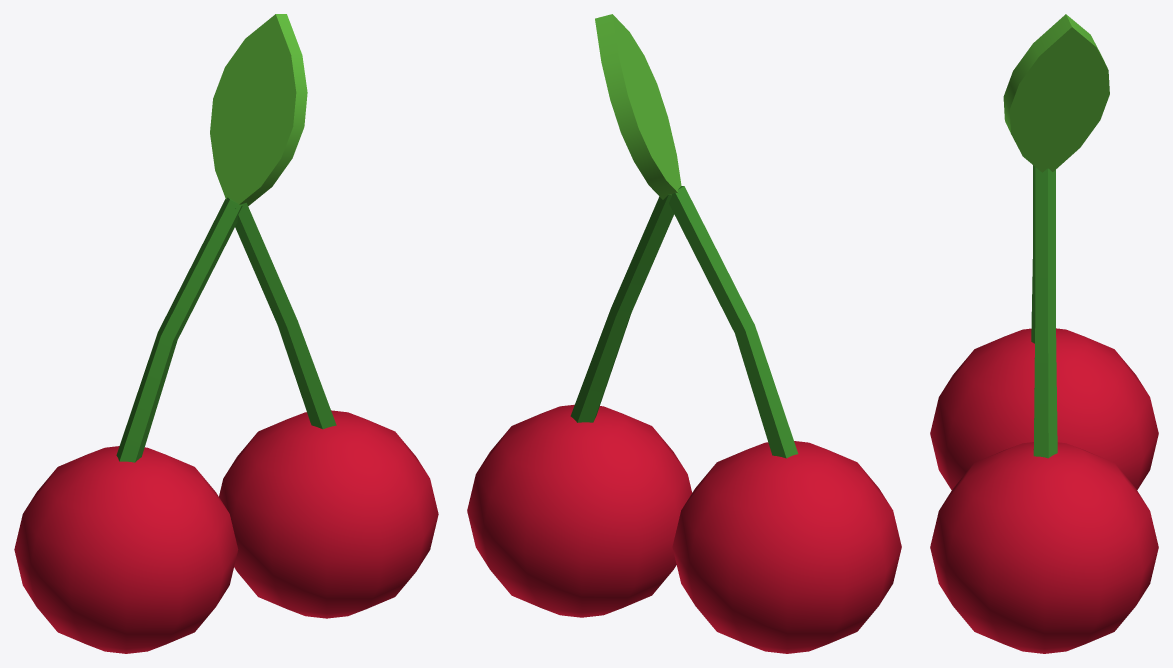
The model's file is Cherries.fbx.
3 renders of one model, left to right at view 1: azimuth 30°, elevation 25°; view 2: azimuth 150°, elevation 25°; view 3: azimuth 270°, elevation 25°, orthographic. The views are drawn at different scales.
Visible parts, largest first — view 1: Cherries; view 2: Cherries; view 3: Cherries.
Boxes of the visible parts, box(x1,y1,x2,y2) form: Cherries: box(14, 14, 438, 653); Cherries: box(467, 14, 901, 653); Cherries: box(930, 14, 1158, 653).
Size of the model in its own units: 1.22 by 1.76 by 0.6.
1 material, 1 textured.
